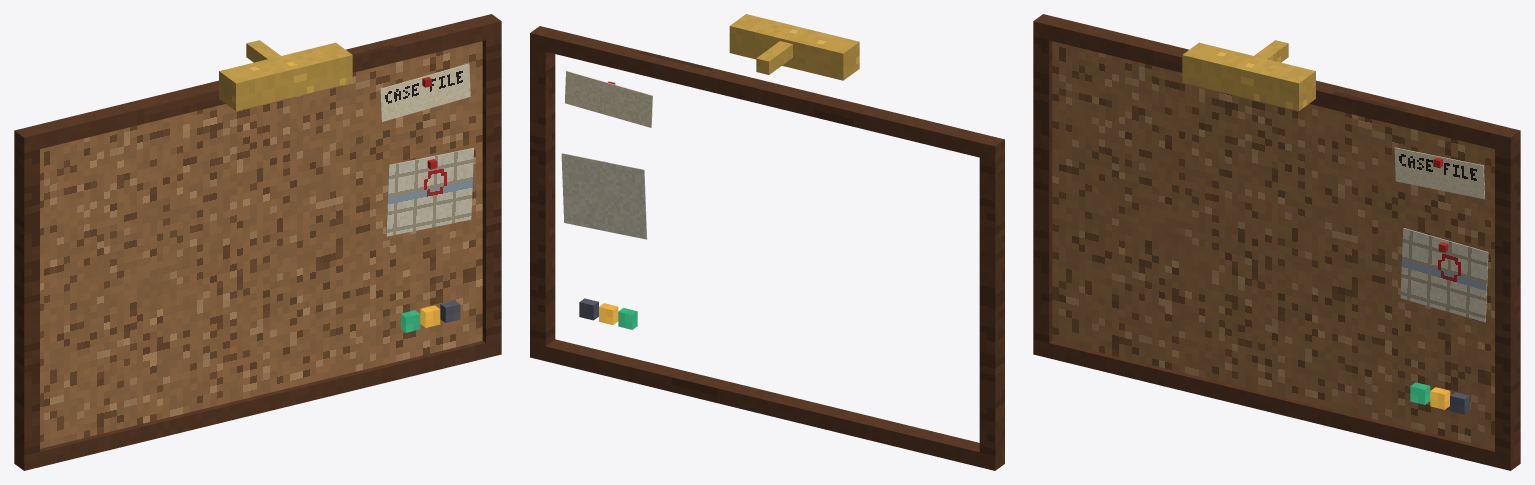
Rendered from corkboard.glb.
3 renders of one model, left to right at view 1: azimuth 30°, elevation 25°; view 2: azimuth 150°, elevation 25°; view 3: azimuth 330°, elevation 25°, orthographic. The views are drawn at different scales.
Visible parts, largest first — view 1: corkboard; view 2: corkboard; view 3: corkboard.
Boxes of the visible parts, box(x1,y1,x2,y2) form: corkboard: box(14, 14, 501, 470); corkboard: box(530, 14, 1004, 470); corkboard: box(1033, 14, 1520, 470).
Bounding box in the file's own units: 2.25 × 1.65 × 0.3375.
Materials: 2 (2 with a texture image).
